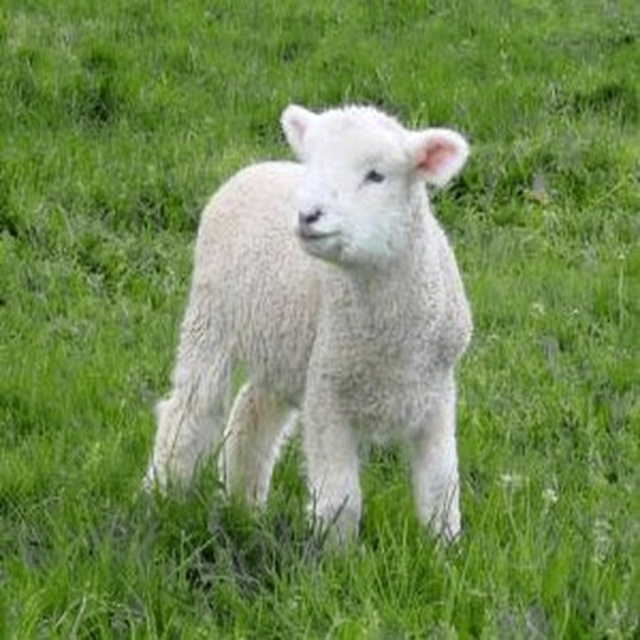Sheep: (141, 103, 470, 563)
